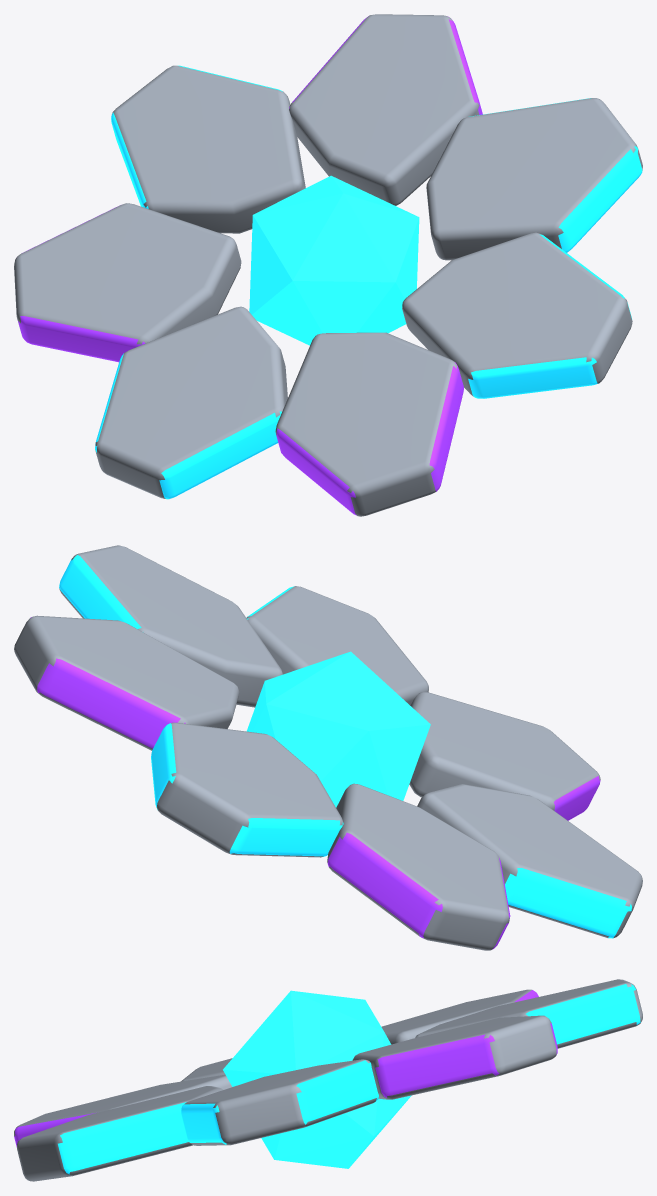
Rendered from ascore-idea-engine.glb.
The picture shows the model from 3 angles, top to bottom: view 1: azimuth 30°, elevation 25°; view 2: azimuth 150°, elevation 25°; view 3: azimuth 270°, elevation 25°; orthographic projection. The views are drawn at different scales.
Parts seen in each view (by area): view 1: Aperture blade 07, Aperture blade 06, Aperture blade 05, Aperture blade 04, Aperture blade 01, Aperture blade 02, Aperture blade 03, Faceted cyan core; view 2: Aperture blade 03, Aperture blade 04, Aperture blade 02, Aperture blade 05, Faceted cyan core, Aperture blade 01, Aperture blade 06, Aperture blade 07; view 3: Faceted cyan core, Aperture blade 01, Aperture blade 02, Aperture blade 07, Aperture blade 03, Aperture blade 06, Aperture blade 04, Aperture blade 05.
Boxes of the visible parts, x1,y1,x2,y2 form: Aperture blade 07: (402,232,632,398); Aperture blade 06: (275,332,463,516); Aperture blade 05: (95,306,287,499); Aperture blade 04: (14,203,241,362); Aperture blade 01: (426,98,642,260); Aperture blade 02: (289,14,482,205); Aperture blade 03: (111,65,305,233); Faceted cyan core: (249,175,419,345); Aperture blade 03: (151,722,343,857); Aperture blade 04: (327,783,510,950); Aperture blade 02: (14,615,239,750); Aperture blade 05: (417,784,642,938); Faceted cyan core: (246,651,430,807); Aperture blade 01: (59,545,282,707); Aperture blade 06: (409,692,600,820); Aperture blade 07: (246,586,428,705); Faceted cyan core: (223,990,411,1168); Aperture blade 01: (181,1059,378,1145); Aperture blade 02: (352,1015,557,1099); Aperture blade 07: (17,1086,223,1181); Aperture blade 03: (415,979,642,1048); Aperture blade 06: (14,1074,231,1147); Aperture blade 04: (381,989,538,1044); Aperture blade 05: (181,1058,232,1081).
Size of the model in its own units: 4.07 by 2.06 by 4.15.
